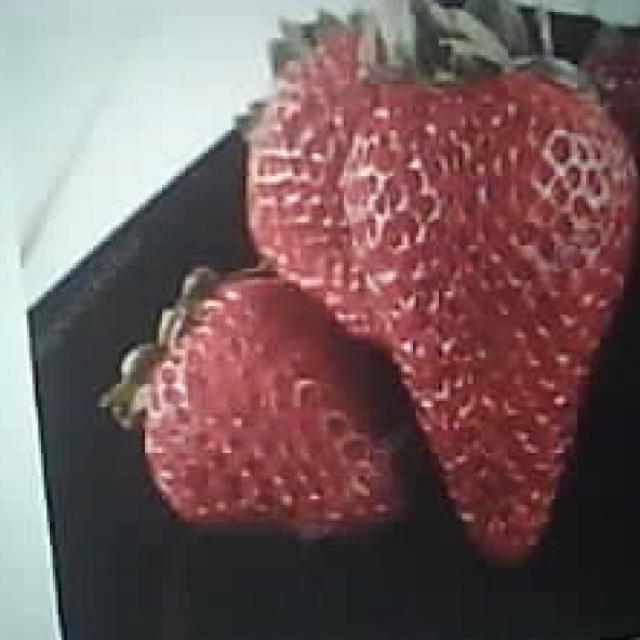Healthy Fruit: (239, 9, 638, 568), (311, 81, 640, 565), (104, 264, 429, 542)
